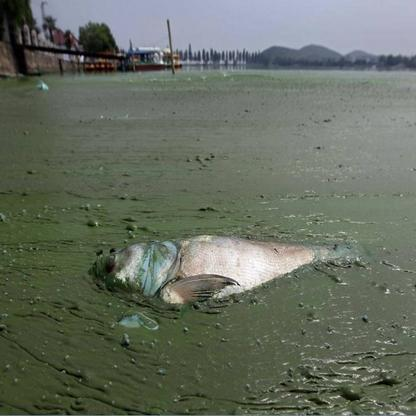deceased fish: (84, 233, 353, 309)
